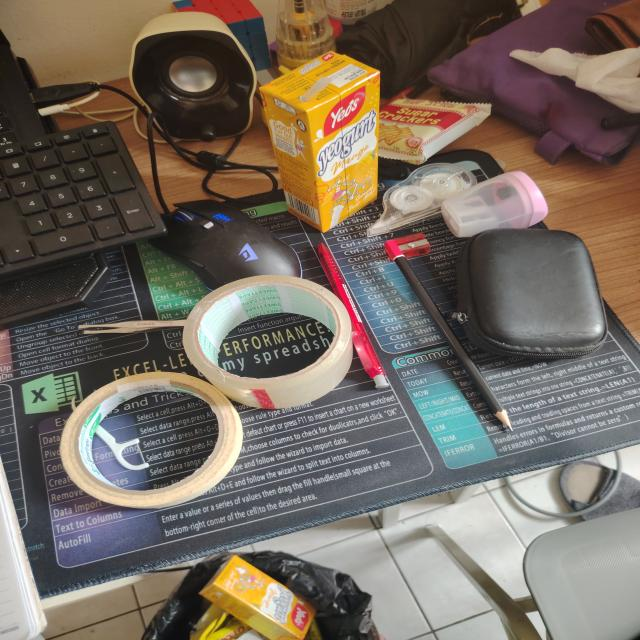pen: (318, 243, 389, 389)
pencil: (385, 240, 512, 430)
sharpener: (441, 172, 548, 237), (384, 233, 430, 260)
tape: (60, 372, 243, 508), (183, 275, 352, 409)
